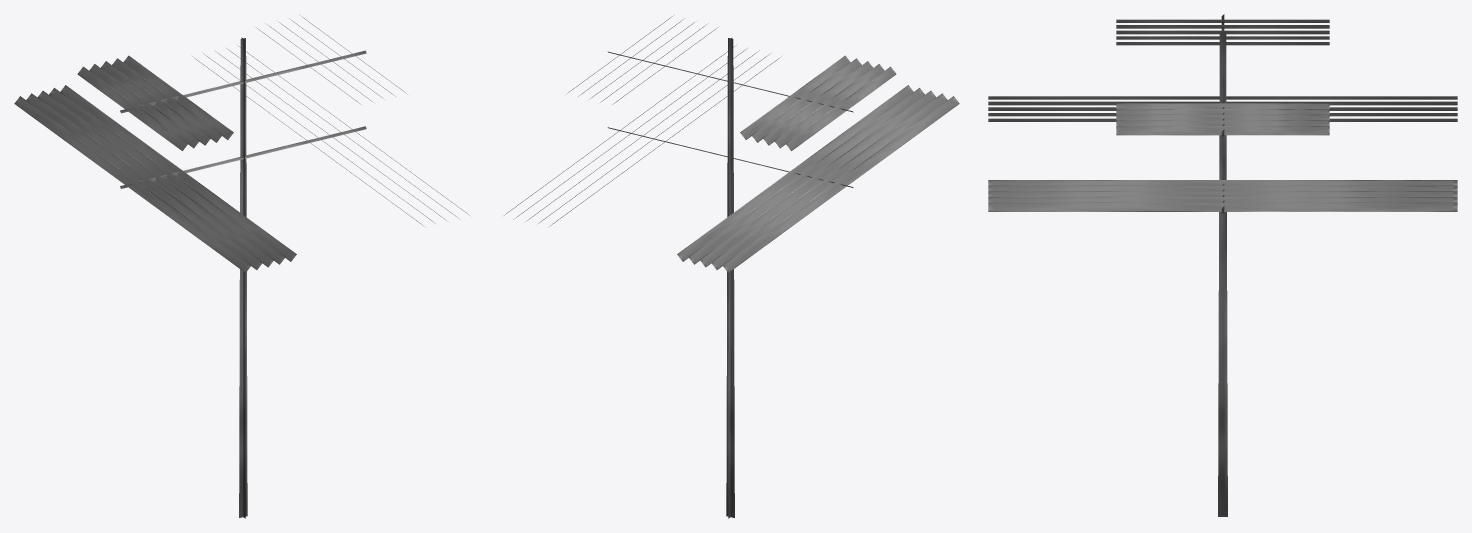
The model's file is antenna_2.obj.
3 renders of one model, left to right at view 1: azimuth 30°, elevation 25°; view 2: azimuth 150°, elevation 25°; view 3: azimuth 270°, elevation 25°, orthographic.
Visible parts, largest first — view 1: antenna_2; view 2: antenna_2; view 3: antenna_2.
Boxes of the visible parts, bbox=[...] form: antenna_2: bbox=[14, 16, 469, 518]; antenna_2: bbox=[504, 16, 959, 518]; antenna_2: bbox=[988, 14, 1457, 516].
Size of the model in its own units: 1.09 by 2.04 by 1.79.
1 material, 1 textured.
